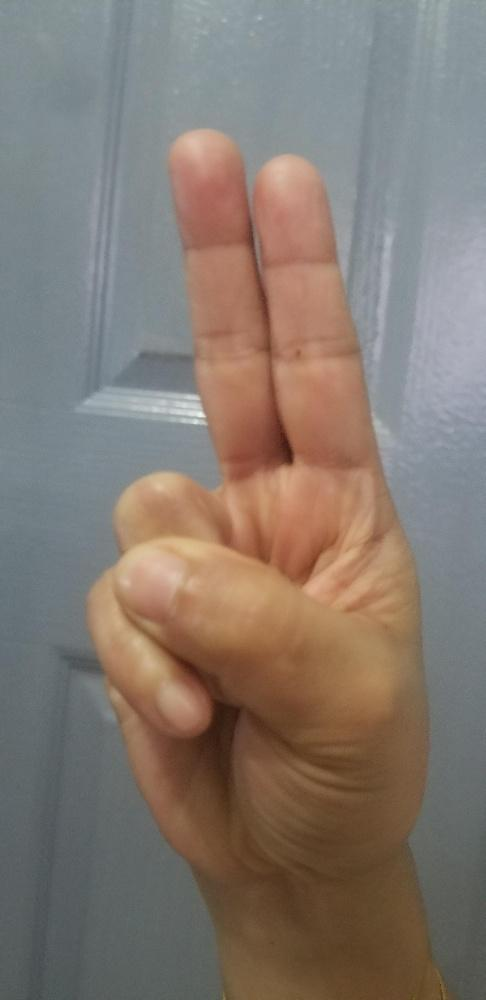u: (82, 124, 429, 863)
